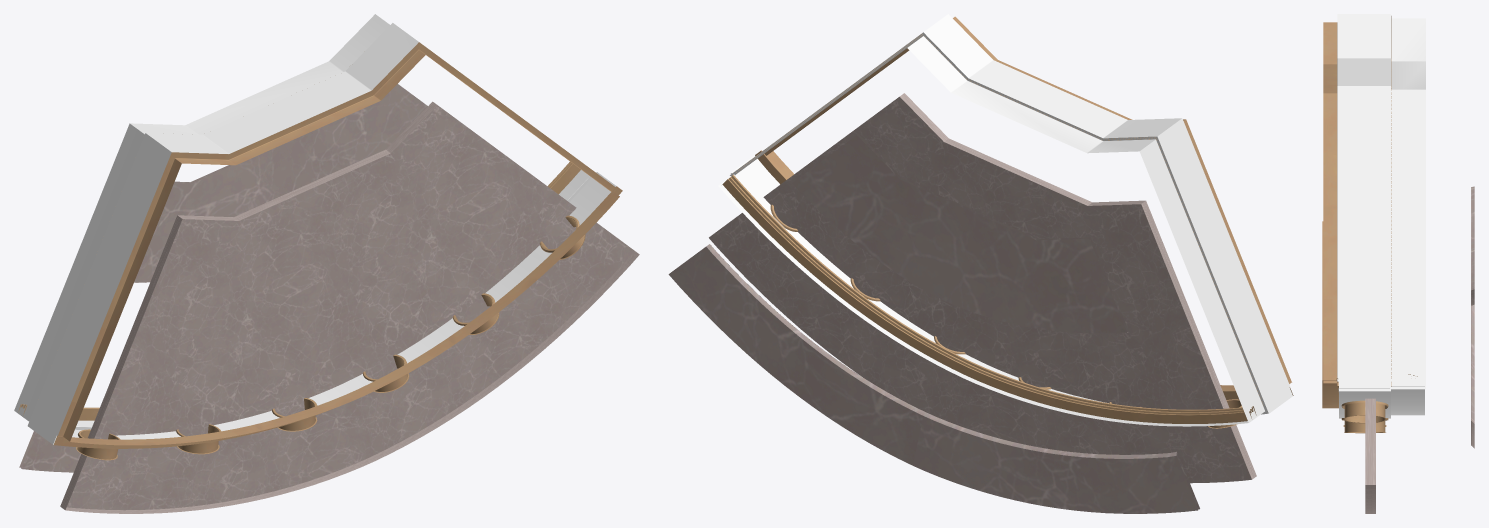
The model's file is PF_SP_wall.fbx.
3 views of the same model, side by side, from view 1: azimuth 30°, elevation 25°; view 2: azimuth 150°, elevation 25°; view 3: azimuth 270°, elevation 25° (orthographic). The views are drawn at different scales.
Parts seen in each view (by area): view 1: SM_SP_wall_03, SM_SP_wall_02, SM_SP_wall_01; view 2: SM_SP_wall_03, SM_SP_wall_01, SM_SP_wall_02; view 3: SM_SP_wall_02, SM_SP_wall_03, SM_SP_wall_01.
Boxes of the visible parts, x1=… form: SM_SP_wall_03: x1=60, y1=101, x2=639, y2=513; SM_SP_wall_02: x1=14, y1=14, x2=622, y2=460; SM_SP_wall_01: x1=19, y1=84, x2=427, y2=472; SM_SP_wall_03: x1=709, y1=93, x2=1256, y2=483; SM_SP_wall_01: x1=668, y1=134, x2=1199, y2=513; SM_SP_wall_02: x1=718, y1=14, x2=1293, y2=428; SM_SP_wall_02: x1=1322, y1=14, x2=1425, y2=433; SM_SP_wall_03: x1=1365, y1=398, x2=1375, y2=513; SM_SP_wall_01: x1=1471, y1=186, x2=1474, y2=448.
Bounding box in the file's own units: 25.5 × 17.57 × 5.54.
2 materials, 2 textured.
